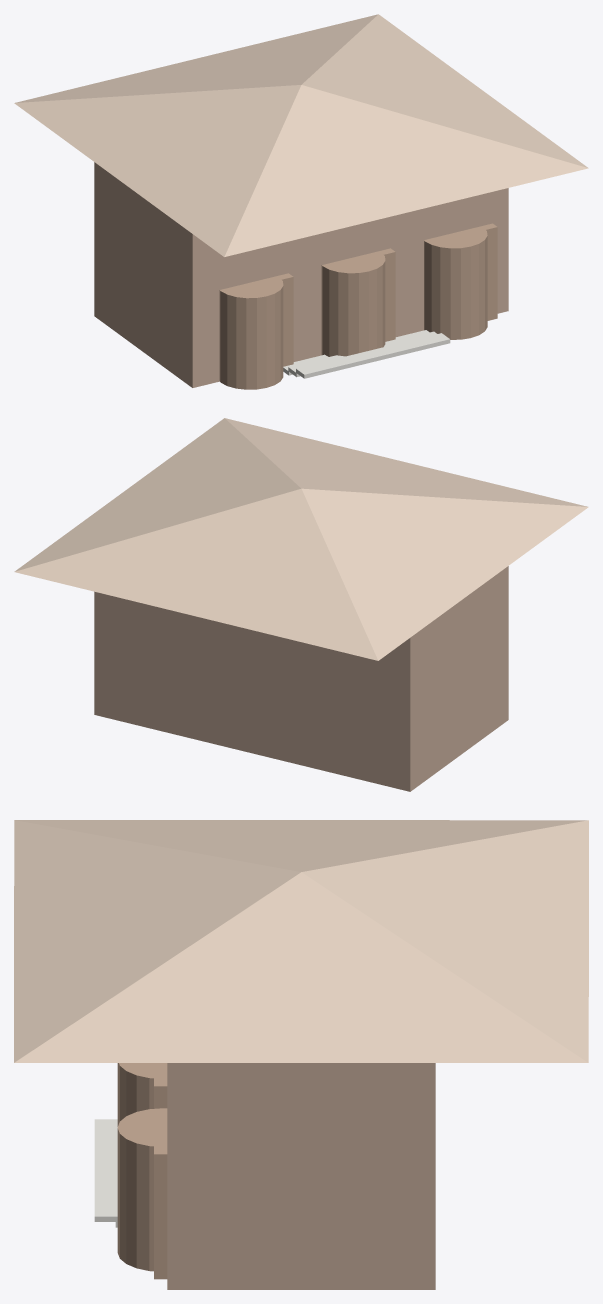
The model's file is nervix_casino.glb.
3 views of the same model, one above another, from view 1: azimuth 30°, elevation 25°; view 2: azimuth 150°, elevation 25°; view 3: azimuth 270°, elevation 25° (orthographic). The views are drawn at different scales.
Visible parts, largest first — view 1: casino_roof, casino, casino_arch_0, casino_arch_2, casino_arch_1, casino_step_2, casino_pier_2, casino_pier_0, casino_pier_1; view 2: casino_roof, casino; view 3: casino_roof, casino, casino_arch_2, casino_step_2, casino_arch_1, casino_pier_2.
Boxes of the visible parts, x1,y1,x2,y2 form: casino_roof: [14, 14, 588, 256]; casino: [94, 162, 508, 387]; casino_arch_0: [219, 276, 283, 389]; casino_arch_2: [424, 226, 487, 339]; casino_arch_1: [321, 251, 385, 356]; casino_step_2: [296, 333, 450, 378]; casino_pier_2: [482, 223, 497, 320]; casino_pier_0: [277, 273, 293, 366]; casino_pier_1: [379, 248, 395, 341]; casino_roof: [14, 418, 588, 660]; casino: [94, 566, 508, 791]; casino_roof: [14, 820, 588, 1062]; casino: [167, 1063, 435, 1289]; casino_arch_2: [117, 1108, 167, 1271]; casino_step_2: [94, 1119, 117, 1221]; casino_arch_1: [117, 1063, 167, 1126]; casino_pier_2: [154, 1146, 167, 1279].
Size of the model in its own units: 15.01 by 9 by 15.01.
